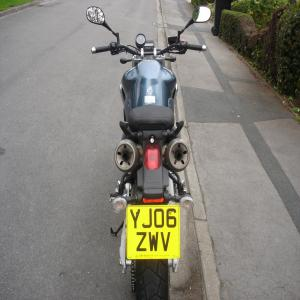Vehicle-registration-plate: (126, 207, 190, 266)
